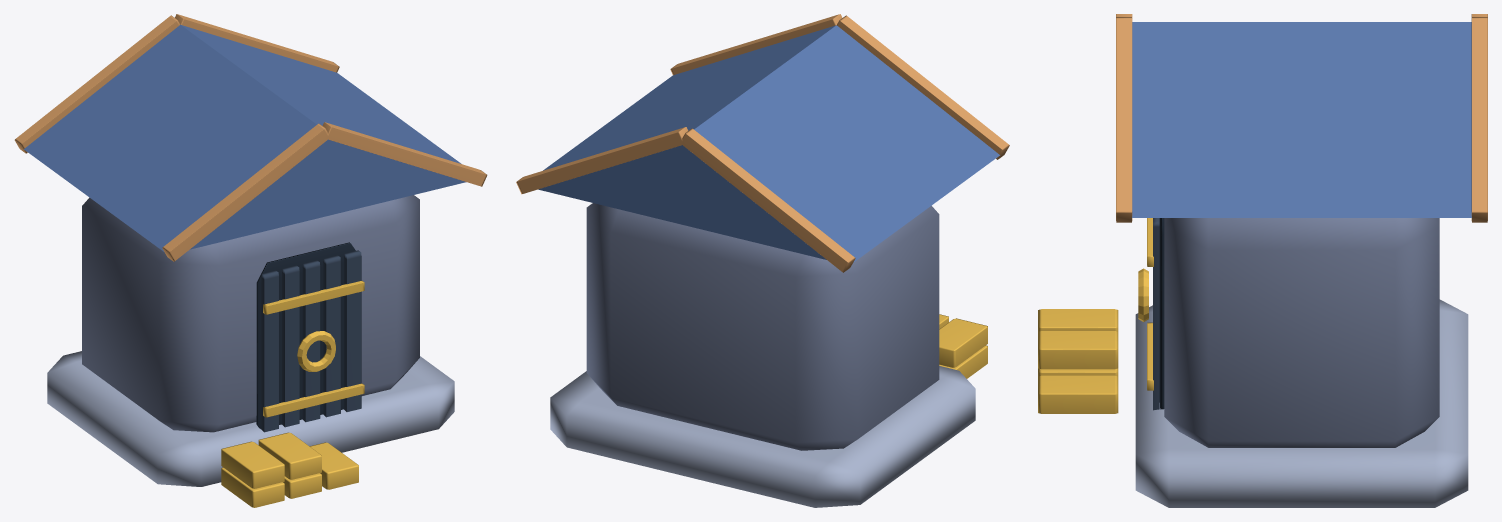
File: treasury_vault.glb
The picture shows the model from 3 angles, left to right: view 1: azimuth 30°, elevation 25°; view 2: azimuth 150°, elevation 25°; view 3: azimuth 270°, elevation 25°; orthographic projection. The views are drawn at different scales.
Visible parts, largest first — view 1: Pitched roof.002, Stone vault, Vault foundation, Roof trim.008, Door recess, Roof trim.010, Roof trim.009, Iron vault door, Iron vault door.004, Iron vault door.001, Iron vault door.002, Iron vault door.003 (+9 smaller); view 2: Stone vault, Pitched roof.002, Vault foundation, Roof trim.010, Roof trim.008, Roof trim.011, Gold ingot.003, Roof trim.009, Gold ingot; view 3: Pitched roof.002, Stone vault, Vault foundation, Roof trim.009, Roof trim.011, Gold ingot.002, Gold ingot.004, Gold ingot.003, Iron vault door.004, Door recess, Gold ingot.001, Vault lock.
Boxes of the visible parts, bbox=[...] form: Pitched roof.002: bbox=[24, 24, 466, 251]; Stone vault: bbox=[82, 195, 419, 432]; Vault foundation: bbox=[47, 351, 454, 486]; Roof trim.008: bbox=[162, 123, 328, 261]; Door recess: bbox=[256, 242, 355, 428]; Roof trim.010: bbox=[14, 15, 180, 153]; Roof trim.009: bbox=[322, 122, 487, 186]; Iron vault door: bbox=[261, 270, 278, 432]; Iron vault door.004: bbox=[344, 250, 361, 411]; Iron vault door.001: bbox=[282, 265, 299, 427]; Iron vault door.002: bbox=[302, 260, 320, 422]; Iron vault door.003: bbox=[323, 255, 340, 417]; Stone vault: bbox=[586, 203, 939, 450]; Pitched roof.002: bbox=[538, 25, 999, 262]; Vault foundation: bbox=[550, 366, 975, 507]; Roof trim.010: bbox=[681, 128, 855, 272]; Roof trim.008: bbox=[837, 15, 1009, 159]; Roof trim.011: bbox=[516, 127, 688, 194]; Gold ingot.003: bbox=[939, 318, 987, 367]; Roof trim.009: bbox=[670, 14, 842, 75]; Gold ingot: bbox=[939, 345, 987, 378]; Pitched roof.002: bbox=[1132, 22, 1471, 217]; Stone vault: bbox=[1164, 218, 1439, 447]; Vault foundation: bbox=[1135, 299, 1468, 507]; Roof trim.009: bbox=[1116, 17, 1132, 222]; Roof trim.011: bbox=[1471, 17, 1487, 222]; Gold ingot.002: bbox=[1038, 375, 1118, 413]; Gold ingot.004: bbox=[1038, 331, 1118, 369]; Gold ingot.003: bbox=[1038, 309, 1118, 331]; Iron vault door.004: bbox=[1153, 218, 1159, 410]; Door recess: bbox=[1159, 218, 1164, 409]; Gold ingot.001: bbox=[1038, 368, 1118, 376]; Vault lock: bbox=[1138, 268, 1148, 321].
Bounding box in the file's own units: 3.86 × 3.94 × 3.92.
